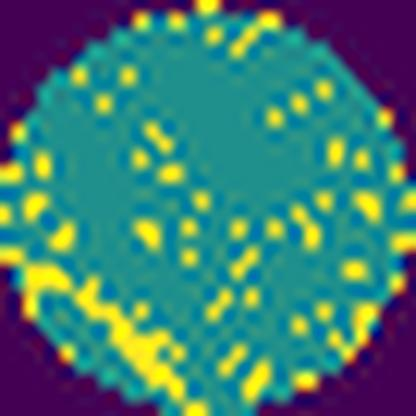Scratch: (0, 237, 211, 414)
